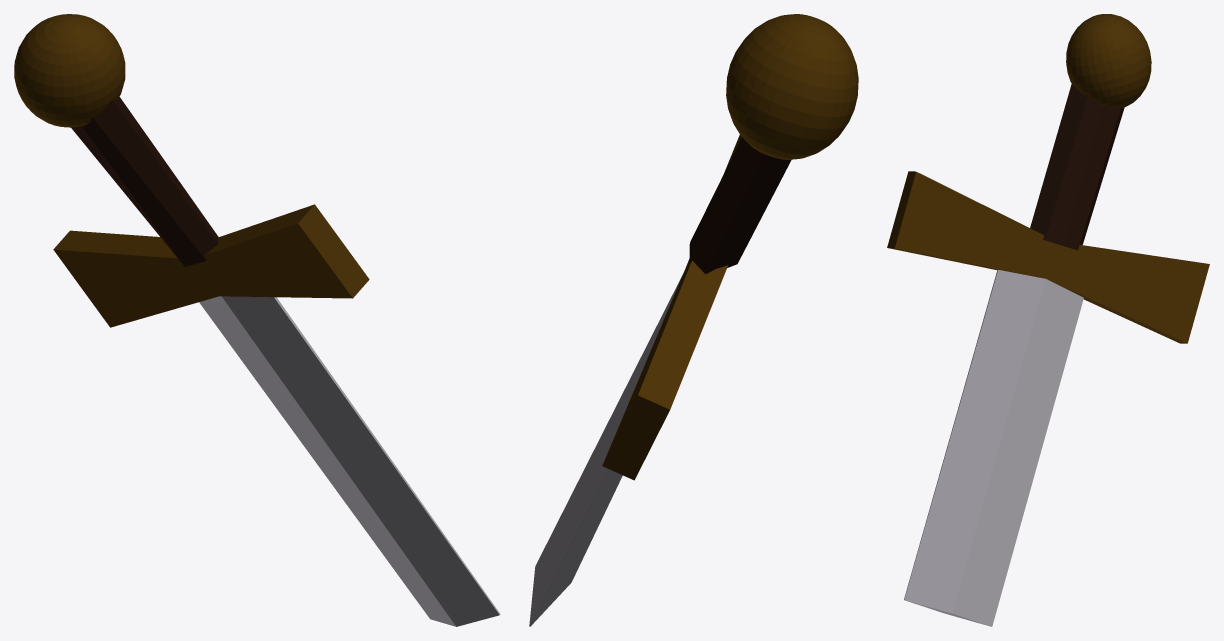
The model's file is TyrColoured2.fbx.
3 renders of one model, left to right at view 1: azimuth 30°, elevation 25°; view 2: azimuth 150°, elevation 25°; view 3: azimuth 270°, elevation 25°, orthographic. The views are drawn at different scales.
Visible parts, largest first — view 1: Cube, Cube.002, Sphere.001, Cube.001; view 2: Sphere.001, Cube.002, Cube, Cube.001; view 3: Cube, Cube.002, Cube.001, Sphere.001.
Part boxes in pixels (x1,y1,x2,y2): Cube: [199, 296, 500, 626]; Cube.002: [53, 204, 369, 327]; Sphere.001: [14, 14, 125, 127]; Cube.001: [71, 97, 218, 266]; Sphere.001: [726, 14, 858, 159]; Cube.002: [602, 135, 741, 480]; Cube: [529, 275, 682, 626]; Cube.001: [689, 137, 791, 274]; Cube: [904, 269, 1083, 626]; Cube.002: [887, 171, 1209, 343]; Cube.001: [1030, 83, 1124, 250]; Sphere.001: [1066, 14, 1151, 107].
Bounding box in the file's own units: 187 × 311 × 183.
